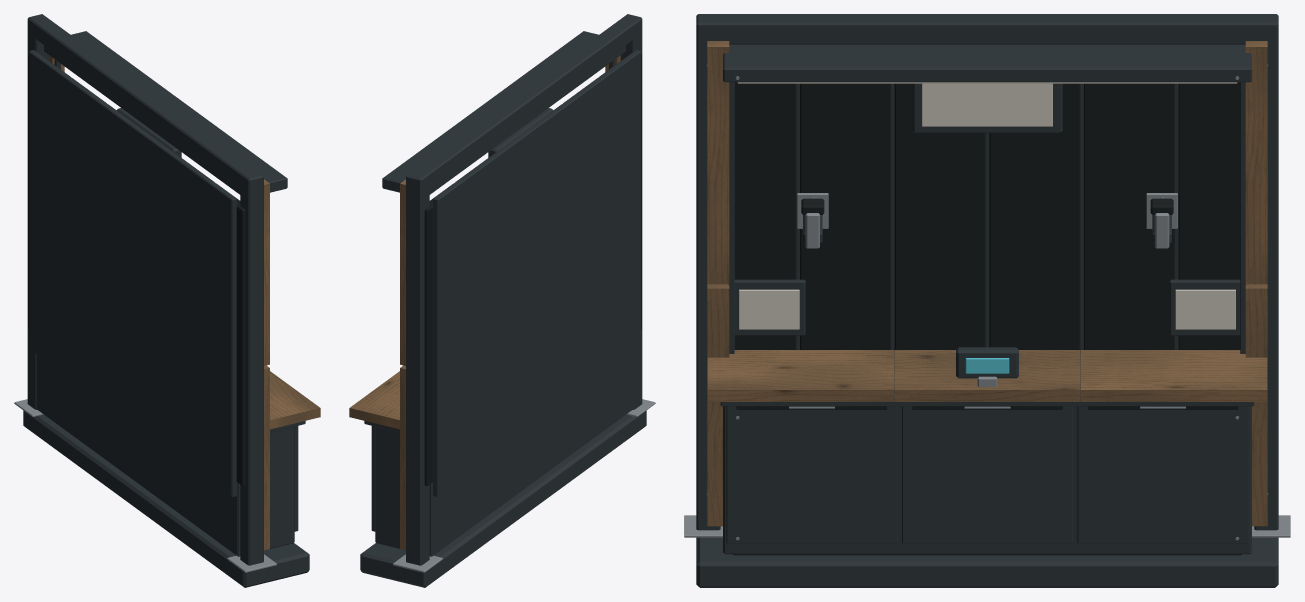
The picture shows the model from 3 angles, left to right: view 1: azimuth 30°, elevation 25°; view 2: azimuth 150°, elevation 25°; view 3: azimuth 270°, elevation 25°; orthographic projection. The views are drawn at different scales.
Parts seen in each view (by area): view 1: Mesh_Body_paint, Mesh_Body_oak, Mesh_Body_rubber, Mesh_Body_steel; view 2: Mesh_Body_paint, Mesh_Body_oak, Mesh_Body_rubber, Mesh_Body_steel; view 3: Mesh_Body_paint, Mesh_Body_rubber, Mesh_Body_oak, Mesh_Body_cream, Mesh_Body_steel, Mesh_Moving_paint.
Boxes of the visible parts, x1=… form: Mesh_Body_paint: x1=23, y1=14, x2=309, y2=587; Mesh_Body_oak: x1=49, y1=55, x2=320, y2=550; Mesh_Body_rubber: x1=28, y1=53, x2=245, y2=485; Mesh_Body_steel: x1=14, y1=399, x2=276, y2=572; Mesh_Body_paint: x1=360, y1=14, x2=646, y2=587; Mesh_Body_oak: x1=349, y1=55, x2=620, y2=550; Mesh_Body_rubber: x1=424, y1=53, x2=641, y2=485; Mesh_Body_steel: x1=393, y1=399, x2=655, y2=572; Mesh_Body_paint: x1=696, y1=14, x2=1278, y2=587; Mesh_Body_rubber: x1=733, y1=82, x2=1241, y2=555; Mesh_Body_oak: x1=707, y1=41, x2=1267, y2=526; Mesh_Body_cream: x1=737, y1=82, x2=1237, y2=329; Mesh_Body_steel: x1=684, y1=64, x2=1290, y2=540; Mesh_Moving_paint: x1=956, y1=347, x2=1018, y2=378.
Bounding box in the file's own units: 0.525 × 2.44 × 2.5.
Materials: 6 (1 with a texture image).
